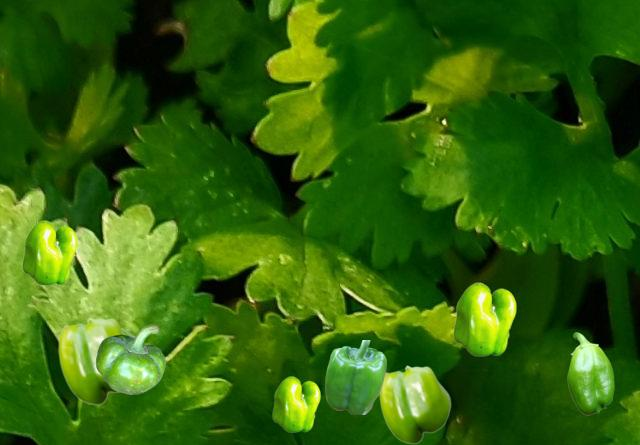bell_pepper: (58, 317, 124, 404), (379, 365, 450, 443), (96, 324, 164, 393), (453, 282, 515, 355), (325, 340, 385, 413), (567, 332, 613, 414), (22, 220, 76, 284), (272, 376, 319, 431)
